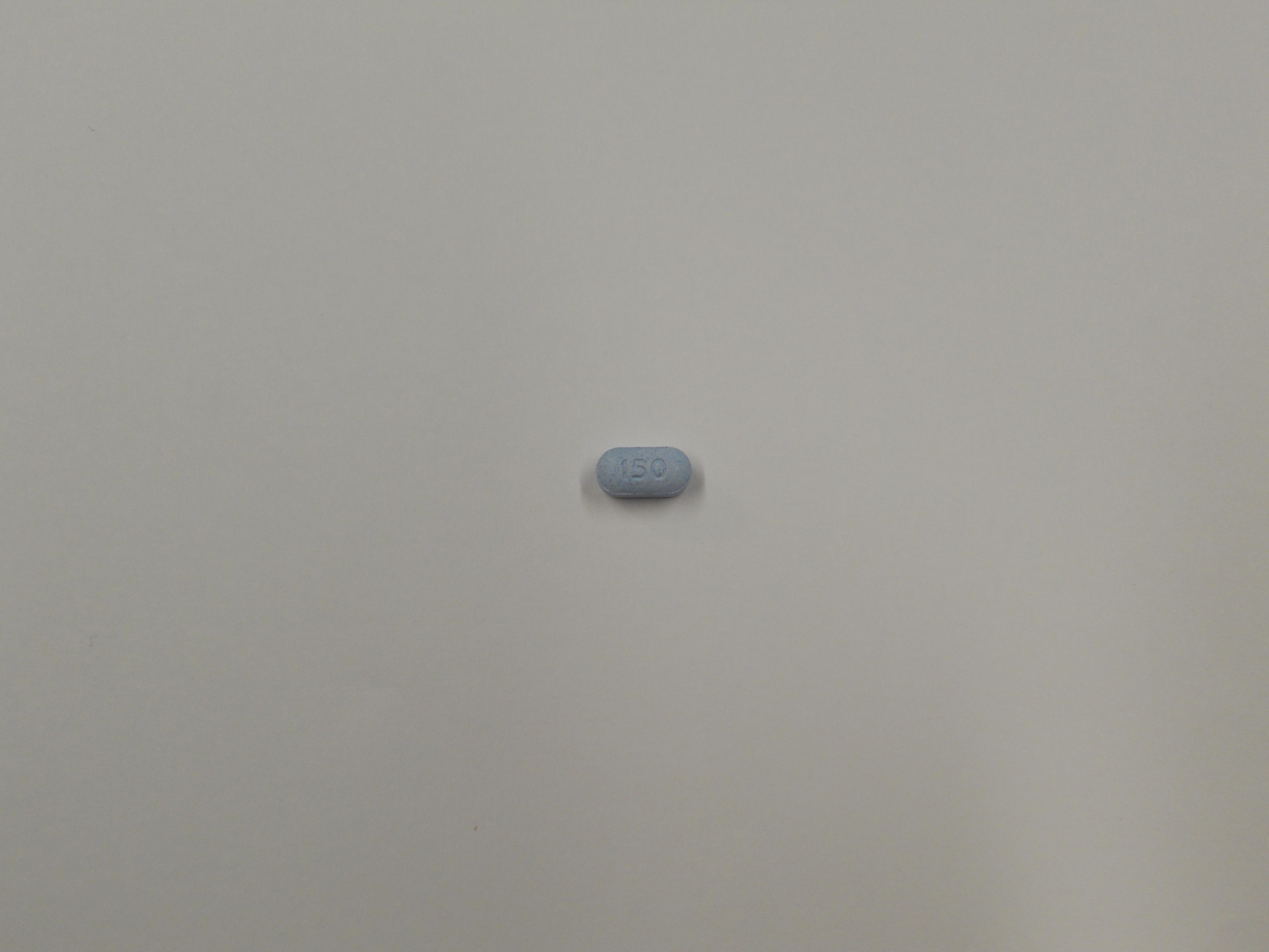Pill: (592, 440, 695, 503)
